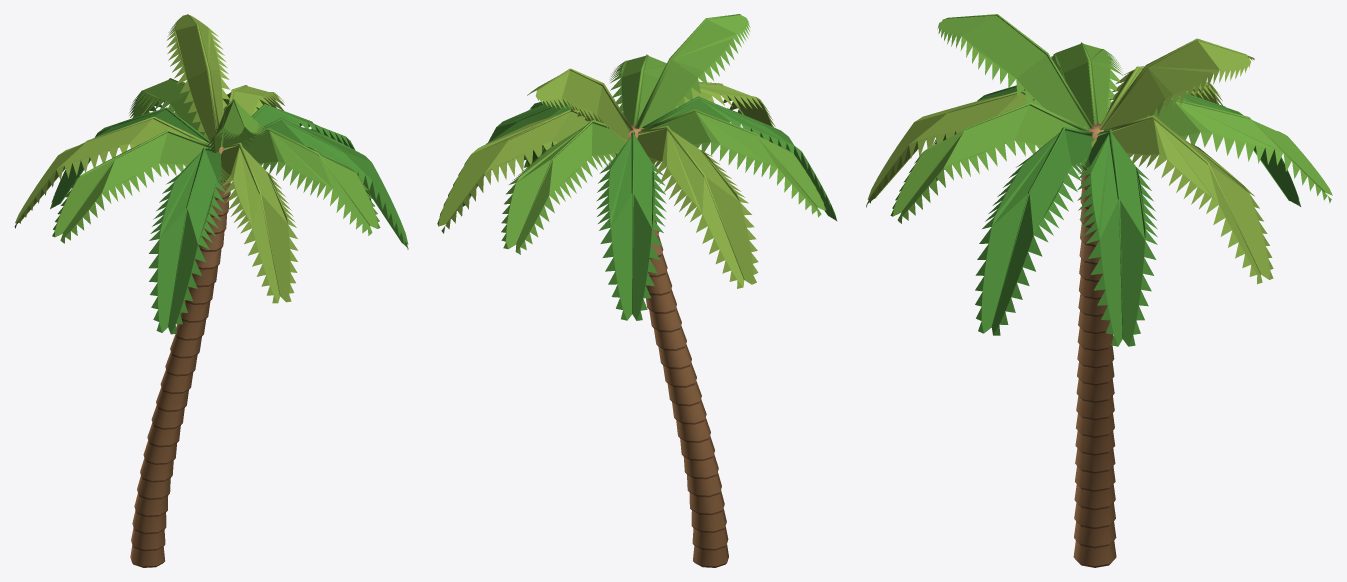
The model's file is palm.glb.
3 renders of one model, left to right at view 1: azimuth 30°, elevation 25°; view 2: azimuth 150°, elevation 25°; view 3: azimuth 270°, elevation 25°, orthographic. The views are drawn at different scales.
Parts seen in each view (by area): view 1: Trunk | banded, Frond | 07 leaflets, Frond | 08 leaflets, Frond | 06 leaflets, Frond | 09 leaflets, Frond | 11 leaflets, Frond | 05 leaflets, Frond | 10 leaflets, Frond | 03 leaflets, Frond | 12 leaflets, Frond | 04 leaflets, Frond | 01 leaflets (+1 smaller); view 2: Trunk | banded, Frond | 04 leaflets, Frond | 05 leaflets, Frond | 03 leaflets, Frond | 02 leaflets, Frond | 06 leaflets, Frond | 12 leaflets, Frond | 11 leaflets, Frond | 09 leaflets, Frond | 07 leaflets, Frond | 08 leaflets, Frond | 01 leaflets (+3 smaller); view 3: Trunk | banded, Frond | 10 leaflets, Frond | 01 leaflets, Frond | 02 leaflets, Frond | 09 leaflets, Frond | 12 leaflets, Frond | 11 leaflets, Frond | 03 leaflets, Frond | 08 leaflets, Frond | 06 leaflets, Frond | 04 leaflets, Frond | 05 leaflets (+4 smaller).
Part boxes in pixels (bbox=[...]): Trunk | banded: bbox=[130, 141, 230, 567]; Frond | 07 leaflets: bbox=[148, 150, 228, 334]; Frond | 08 leaflets: bbox=[220, 145, 298, 303]; Frond | 06 leaflets: bbox=[52, 132, 205, 243]; Frond | 09 leaflets: bbox=[242, 130, 380, 235]; Frond | 11 leaflets: bbox=[166, 14, 229, 140]; Frond | 05 leaflets: bbox=[14, 119, 188, 228]; Frond | 10 leaflets: bbox=[266, 121, 408, 249]; Frond | 03 leaflets: bbox=[129, 79, 204, 135]; Frond | 12 leaflets: bbox=[206, 101, 266, 152]; Frond | 04 leaflets: bbox=[50, 109, 204, 209]; Frond | 01 leaflets: bbox=[249, 106, 372, 201]; Trunk | banded: bbox=[628, 124, 728, 567]; Frond | 04 leaflets: bbox=[596, 135, 666, 320]; Frond | 05 leaflets: bbox=[637, 128, 758, 288]; Frond | 03 leaflets: bbox=[501, 123, 625, 254]; Frond | 02 leaflets: bbox=[437, 111, 590, 233]; Frond | 06 leaflets: bbox=[652, 111, 826, 217]; Frond | 12 leaflets: bbox=[639, 14, 750, 127]; Frond | 11 leaflets: bbox=[527, 70, 629, 142]; Frond | 09 leaflets: bbox=[609, 55, 666, 124]; Frond | 07 leaflets: bbox=[657, 99, 837, 221]; Frond | 08 leaflets: bbox=[676, 83, 775, 142]; Frond | 01 leaflets: bbox=[463, 101, 578, 206]; Trunk | banded: bbox=[1073, 123, 1116, 567]; Frond | 10 leaflets: bbox=[975, 130, 1093, 335]; Frond | 01 leaflets: bbox=[1077, 132, 1157, 346]; Frond | 02 leaflets: bbox=[1112, 118, 1273, 284]; Frond | 09 leaflets: bbox=[890, 105, 1078, 223]; Frond | 12 leaflets: bbox=[937, 15, 1088, 128]; Frond | 11 leaflets: bbox=[1103, 40, 1254, 130]; Frond | 03 leaflets: bbox=[1147, 100, 1332, 203]; Frond | 08 leaflets: bbox=[866, 93, 1043, 207]; Frond | 06 leaflets: bbox=[1051, 43, 1122, 123]; Frond | 04 leaflets: bbox=[1172, 93, 1300, 206]; Frond | 05 leaflets: bbox=[1106, 69, 1222, 115].
Size of the model in its own units: 2.7 by 3.76 by 2.77.
